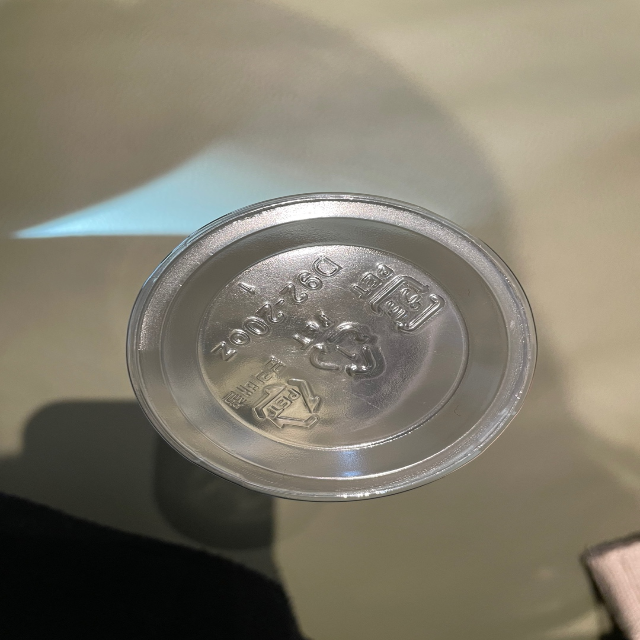pet: (220, 350, 326, 434), (349, 258, 456, 335), (289, 308, 389, 383)
